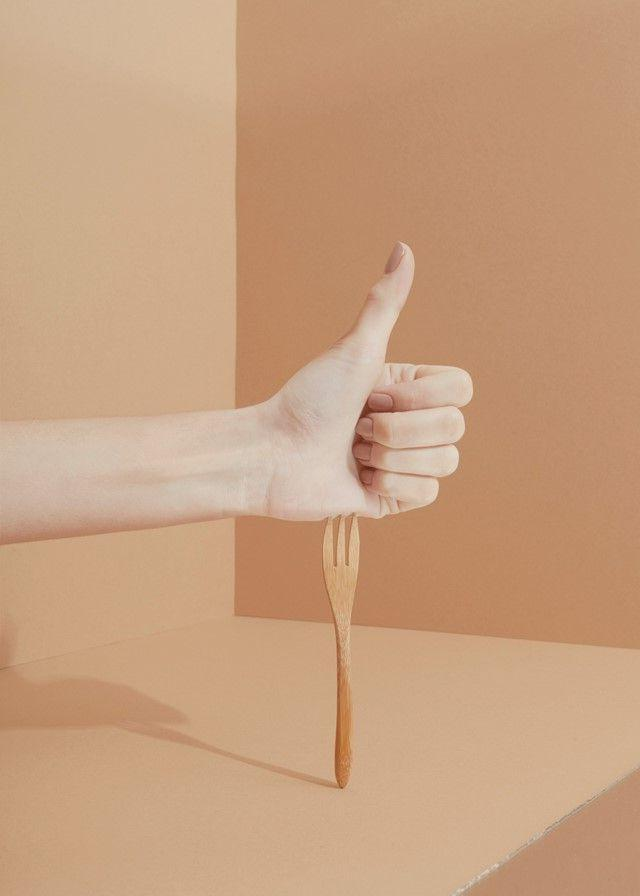thumbsup: (341, 237, 475, 522)
